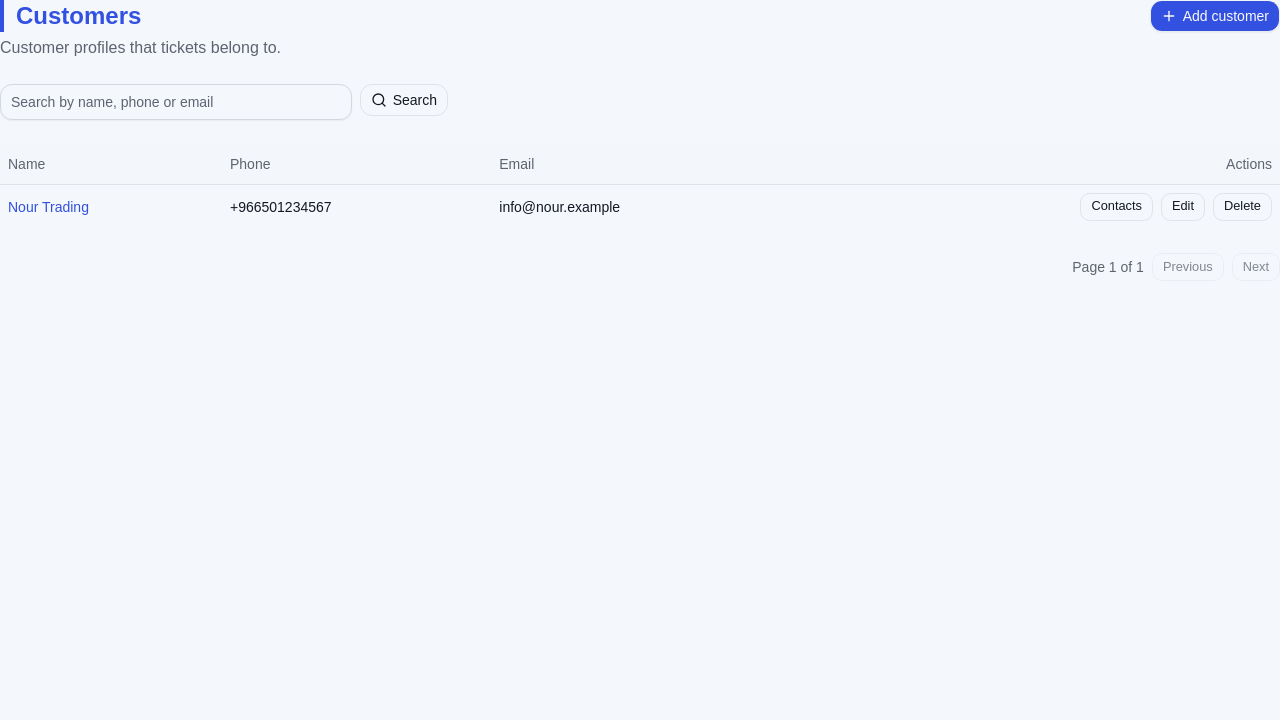
it: Customer contacts › lists every phone, email and WhatsApp number with the primary ones marked
Click the button "Contacts" at (1117, 206), box [1080, 192, 1153, 220]
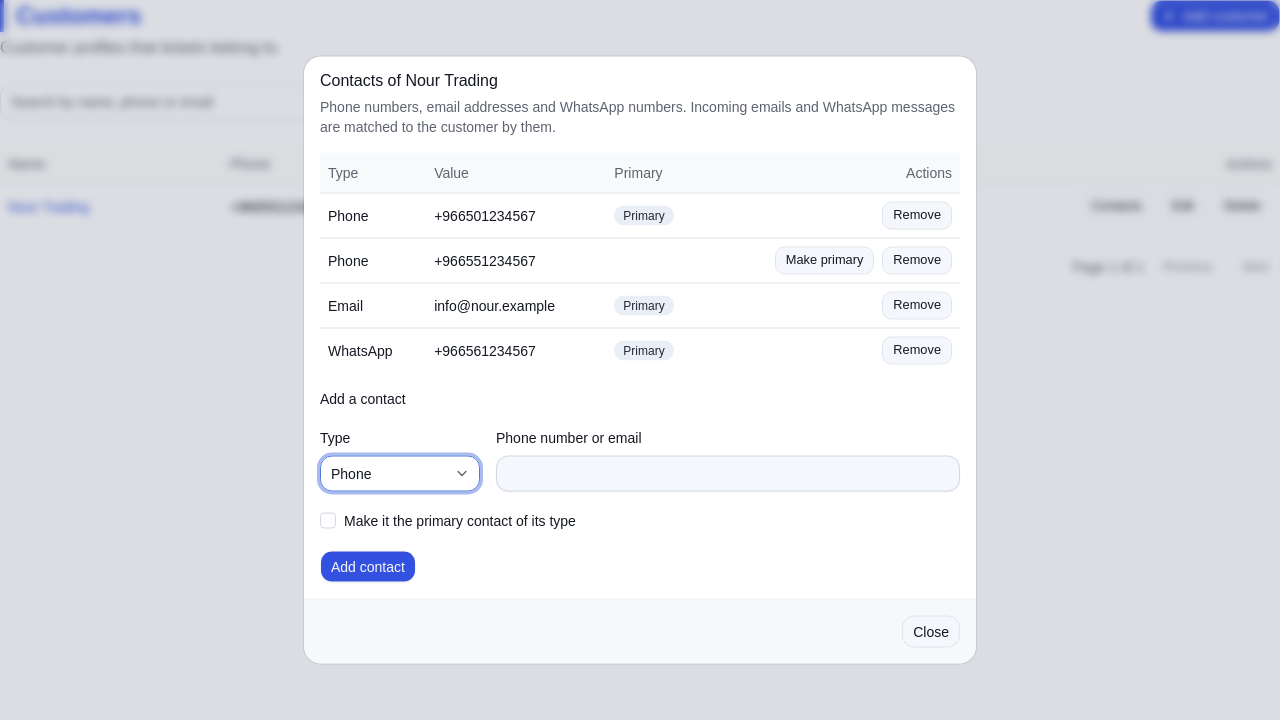
Check: the text "+966551234567" is shown, box [426, 238, 606, 282]
Check: the text "Email" is shown, box [320, 282, 426, 328]
